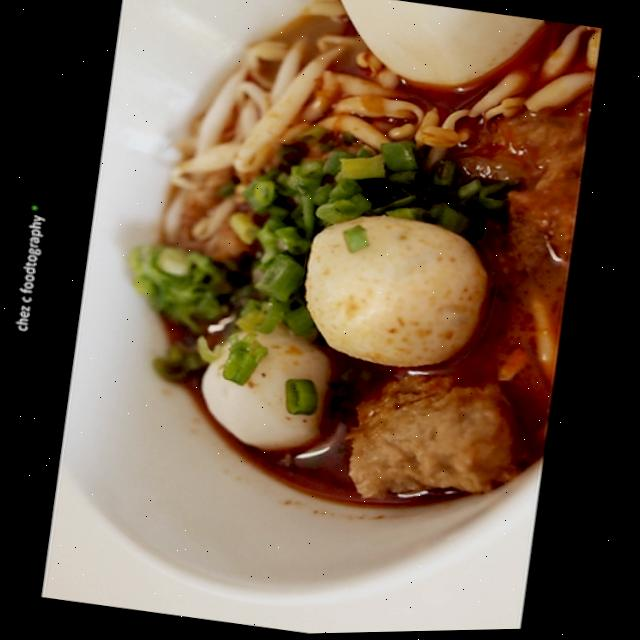面条主食: (24, 0, 606, 640)
